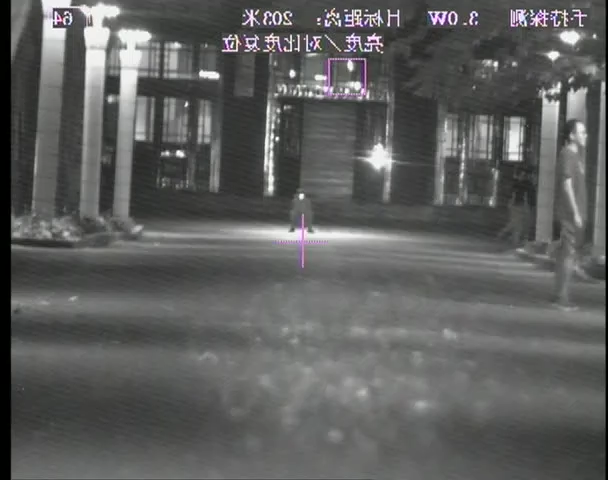my: (297, 191, 304, 200)
